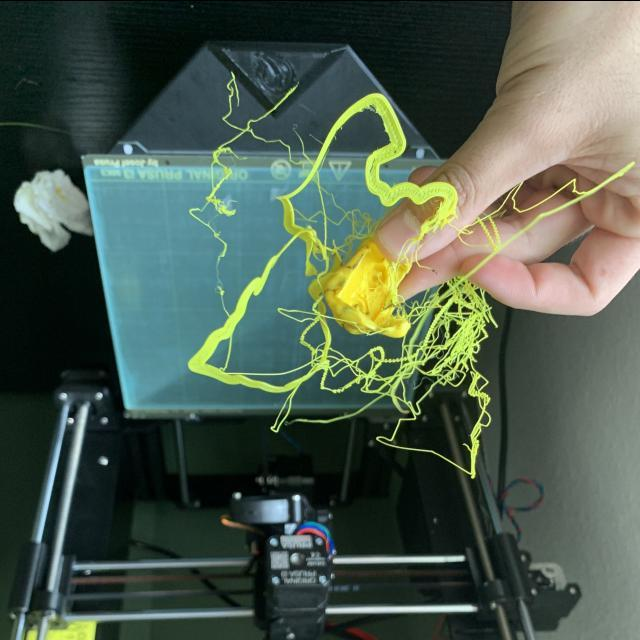Spaghetti: (410, 278, 490, 380), (320, 338, 414, 401), (192, 144, 238, 236), (316, 207, 374, 265), (462, 375, 492, 477), (286, 292, 328, 350), (225, 104, 259, 142)
